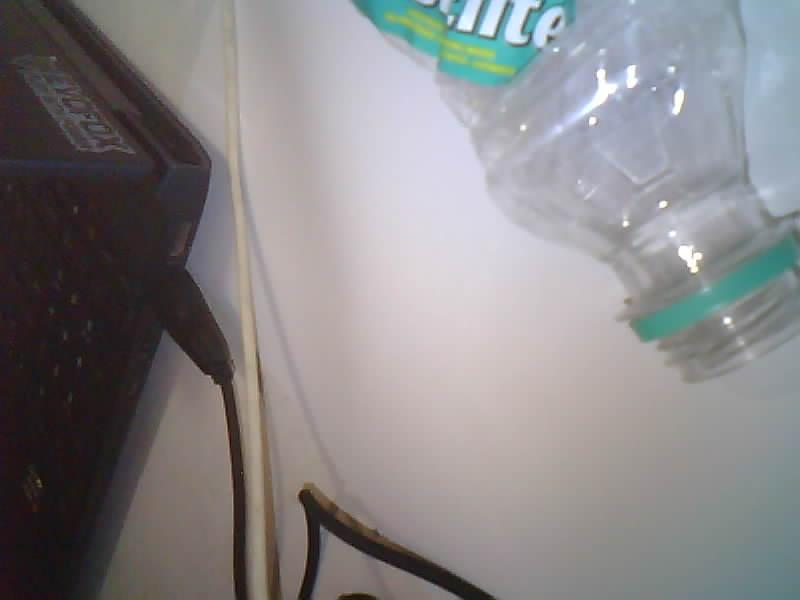non-biodegradable: (353, 0, 799, 380)
